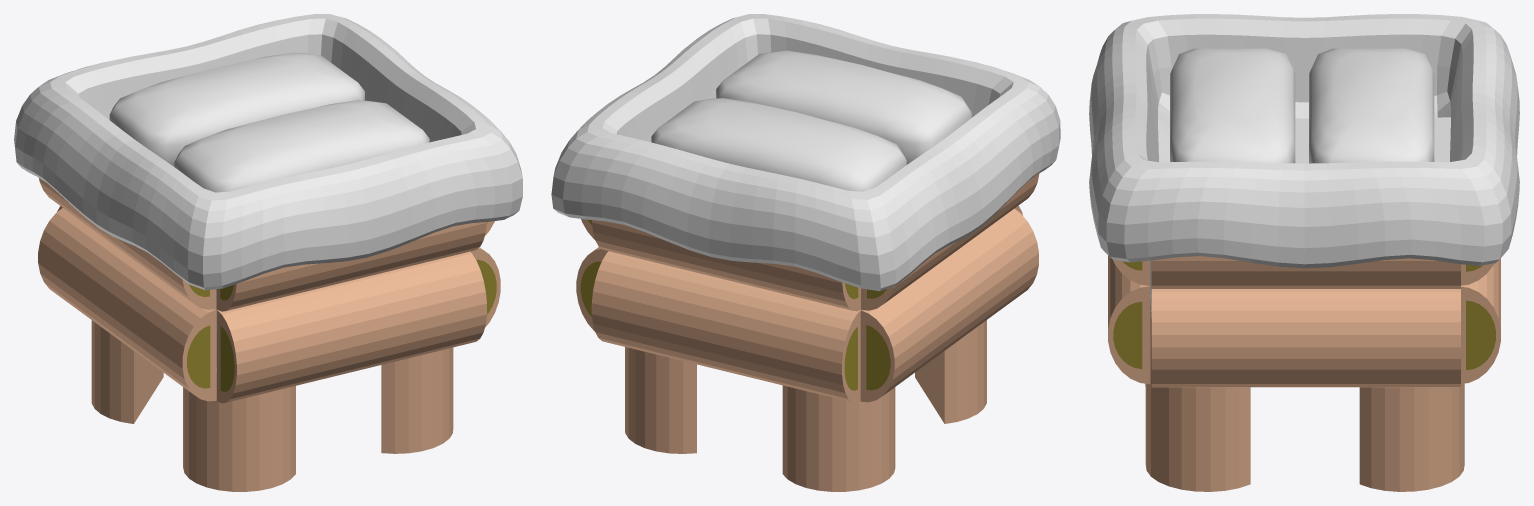
The model's file is beehive.fbx.
3 renders of one model, left to right at view 1: azimuth 30°, elevation 25°; view 2: azimuth 150°, elevation 25°; view 3: azimuth 270°, elevation 25°, orthographic. The views are drawn at different scales.
Parts seen in each view (by area): view 1: Cube, Cylinder.007, Cylinder.012, Cube.002, Cube.001, Cylinder.003, Cylinder.001, Cylinder.006, Cylinder.004, Cylinder.005, Cylinder.011; view 2: Cube, Cylinder.009, Cylinder.012, Cube.001, Cube.002, Cylinder.004, Cylinder.008, Cylinder.002, Cylinder.003, Cylinder.005, Cylinder.011; view 3: Cube, Cylinder.011, Cube.002, Cube.001, Cylinder.001, Cylinder.002, Cylinder.010, Cylinder.007, Cylinder.009, Cylinder.006, Cylinder.008.
Part boxes in pixels (x1,y1,x2,y2): Cube: (14,14,522,370); Cylinder.007: (217,251,486,403); Cylinder.012: (38,208,216,401); Cube.002: (109,52,364,166); Cube.001: (174,100,429,192); Cylinder.003: (183,371,295,491); Cylinder.001: (381,347,453,453); Cylinder.006: (217,222,486,311); Cylinder.004: (91,320,163,423); Cylinder.005: (39,178,216,309); Cylinder.011: (470,247,500,327); Cube: (551,14,1060,291); Cylinder.009: (591,251,860,402); Cylinder.012: (860,208,1038,402); Cube.001: (716,50,971,164); Cube.002: (651,98,906,191); Cylinder.004: (782,385,895,491); Cylinder.008: (592,220,860,311); Cylinder.002: (625,347,696,453); Cylinder.003: (915,320,986,423); Cylinder.005: (861,173,1039,310); Cylinder.011: (576,247,608,331); Cube: (1089,14,1519,317); Cylinder.011: (1151,289,1460,387); Cube.002: (1309,48,1434,163); Cube.001: (1170,48,1295,163); Cylinder.001: (1145,299,1250,491); Cylinder.002: (1359,383,1464,491); Cylinder.010: (1151,256,1460,288); Cylinder.007: (1108,255,1150,384); Cylinder.009: (1461,258,1500,383); Cylinder.006: (1113,260,1150,285); Cylinder.008: (1461,263,1494,285).
Size of the model in its own units: 137 by 116 by 134.
